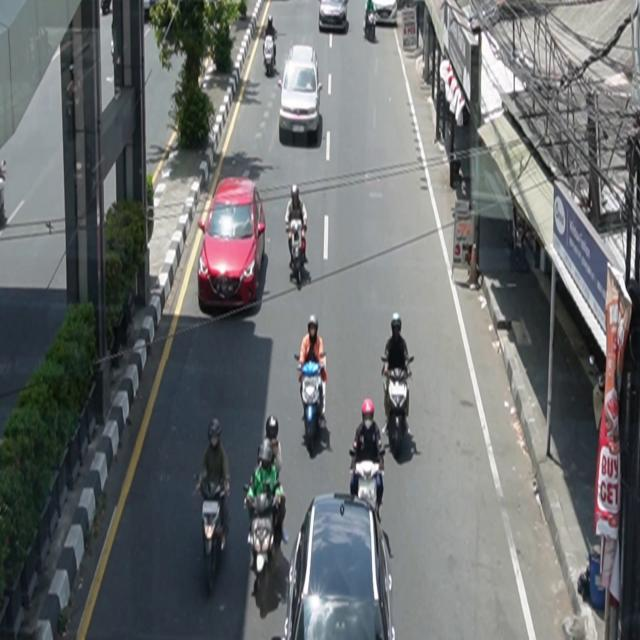car: (272, 493, 397, 640), (198, 177, 267, 314), (278, 45, 323, 138), (319, 1, 349, 32)
